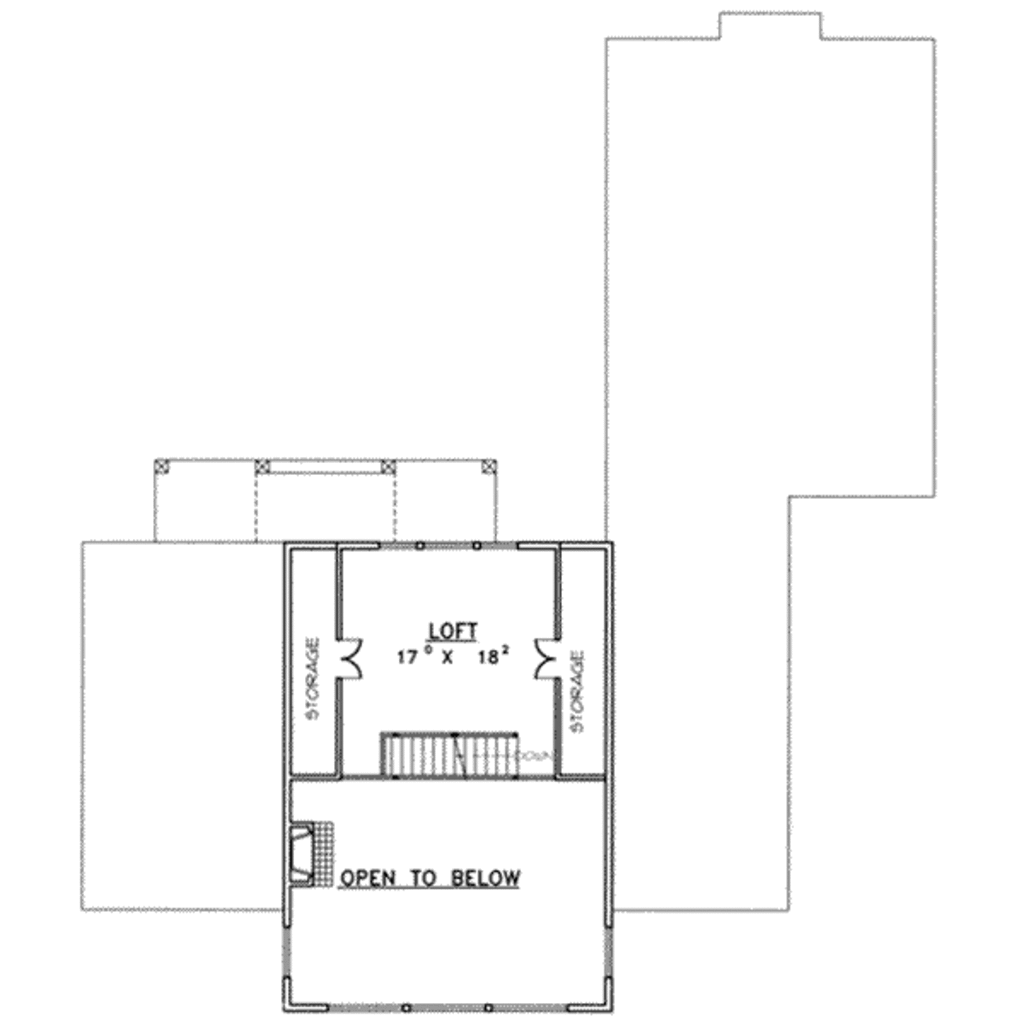door: (517, 633, 575, 688), (331, 639, 369, 683)
stairs: (364, 727, 523, 785)
